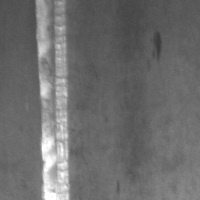inclusion: (148, 28, 165, 64)
scratches: (33, 1, 72, 200)
